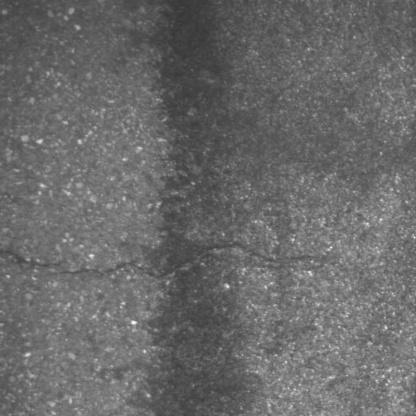Cracks: (0, 238, 329, 283)
